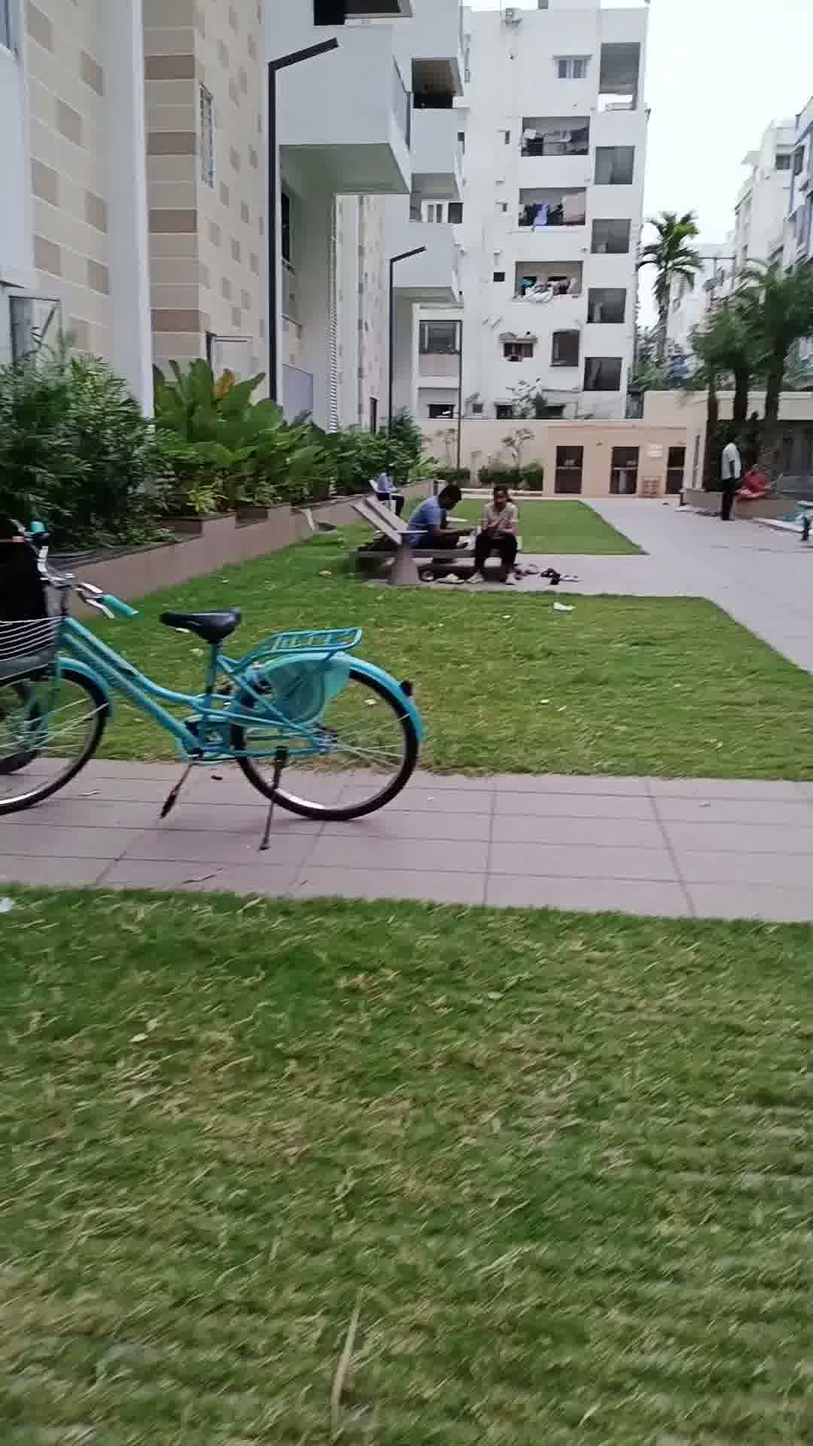bicycle: (0, 495, 440, 853)
person: (394, 448, 466, 581), (701, 433, 763, 535), (480, 457, 524, 593)
tree: (744, 248, 813, 478), (633, 192, 698, 390), (695, 285, 769, 433)
